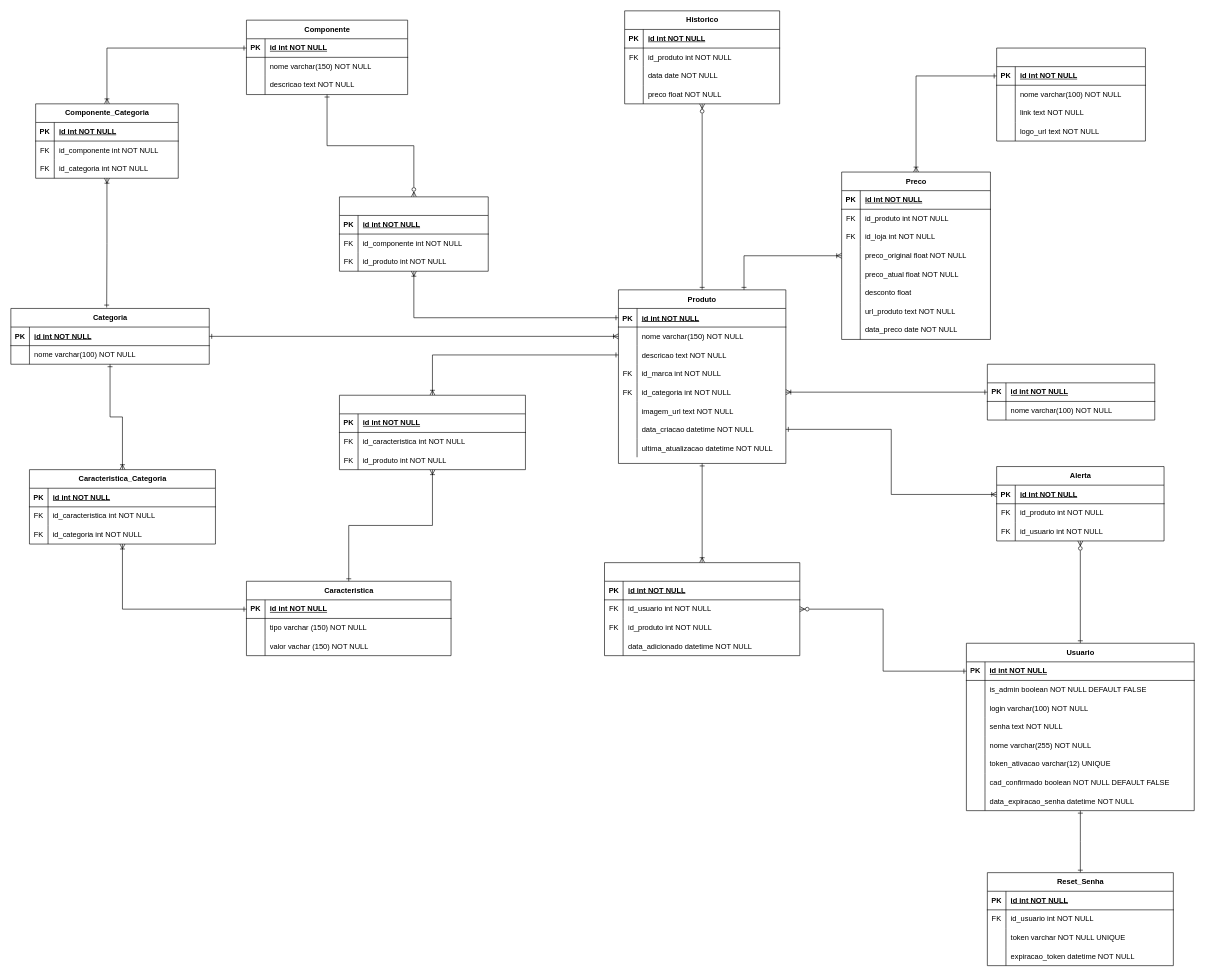
The diagram is 1205 pixels wide and 977 high, and some of its shapes have lost their labels. The shapes that lost their labels are listed below. From the top down, each one's box as (x1, y1, x2, y2) in pixels, then its label:
(996, 47, 1145, 141): Loja
(339, 196, 488, 271): Componente_Produto
(987, 364, 1155, 420): Marca
(339, 395, 525, 470): Caracteristica_Produto
(604, 562, 800, 656): Lista_Desejo
